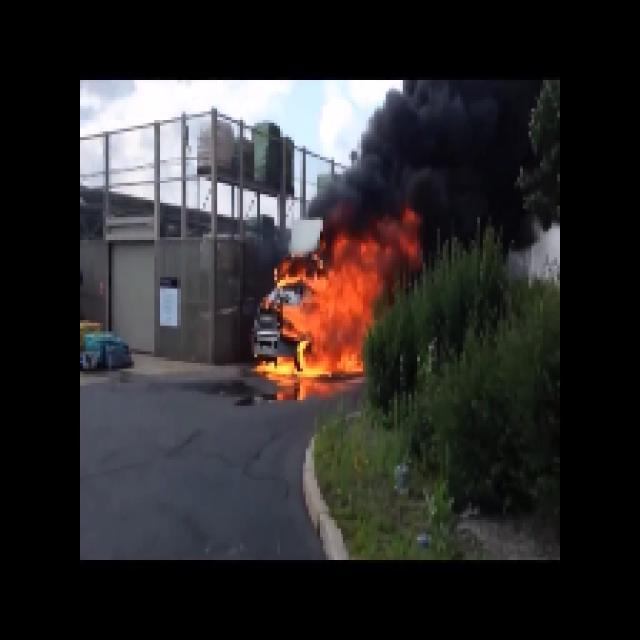Fire: (270, 244, 380, 390)
Smoke: (372, 81, 519, 228), (318, 176, 364, 232)
